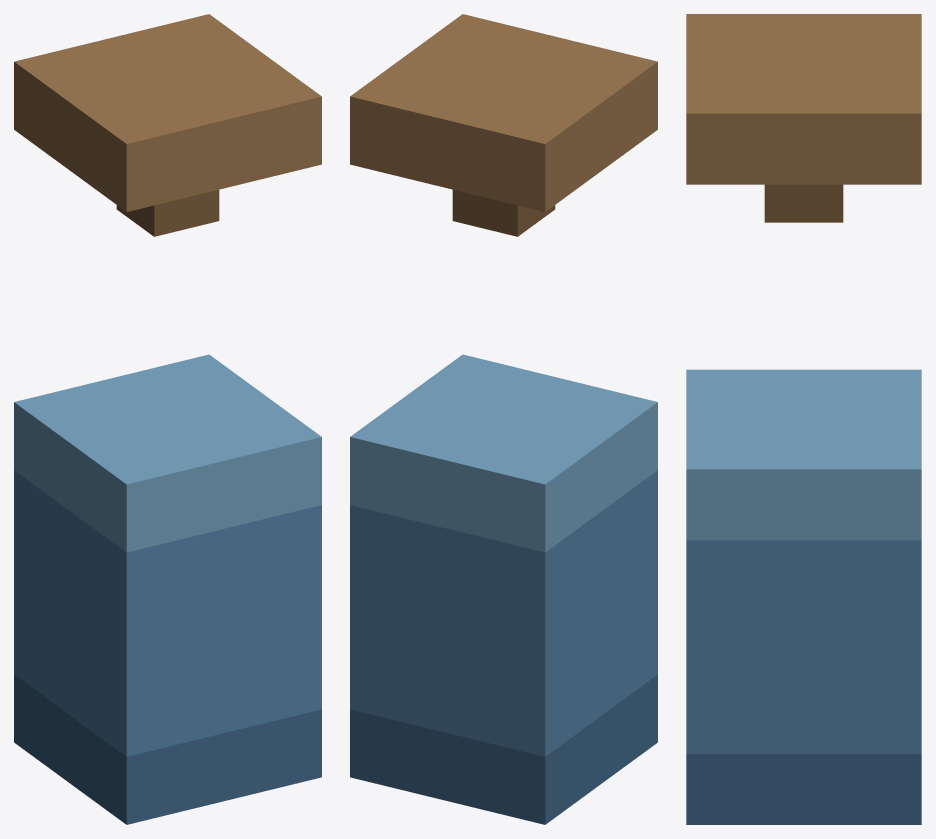
The model's file is Potion_Blue_Inner.fbx.
3 views of the same model, side by side, from view 1: azimuth 30°, elevation 25°; view 2: azimuth 150°, elevation 25°; view 3: azimuth 270°, elevation 25° (orthographic). The views are drawn at different scales.
Parts seen in each view (by area): view 1: Potion_Blue_Inner; view 2: Potion_Blue_Inner; view 3: Potion_Blue_Inner.
Boxes of the visible parts, x1=… form: Potion_Blue_Inner: x1=14, y1=14, x2=321, y2=824; Potion_Blue_Inner: x1=350, y1=14, x2=657, y2=824; Potion_Blue_Inner: x1=686, y1=14, x2=921, y2=824.
Size of the model in its own units: 0.1 by 0.3333 by 0.1.
Materials: 1 (1 with a texture image).
